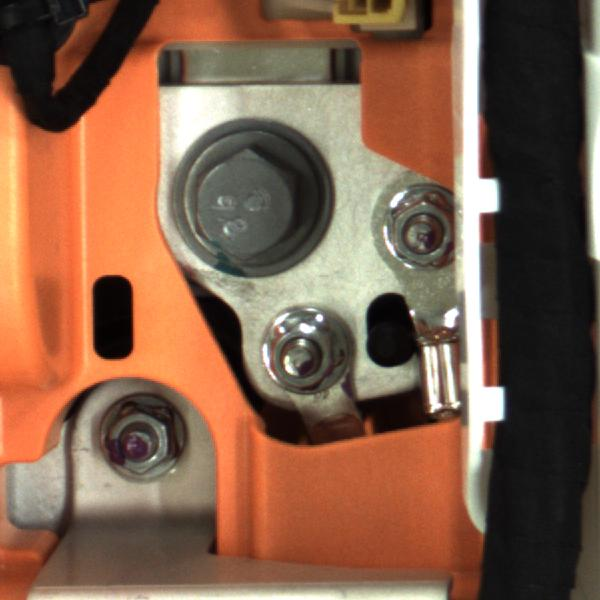nut_b: (170, 127, 330, 273)
screw_s: (91, 382, 192, 496), (384, 181, 462, 288), (257, 303, 355, 387)
